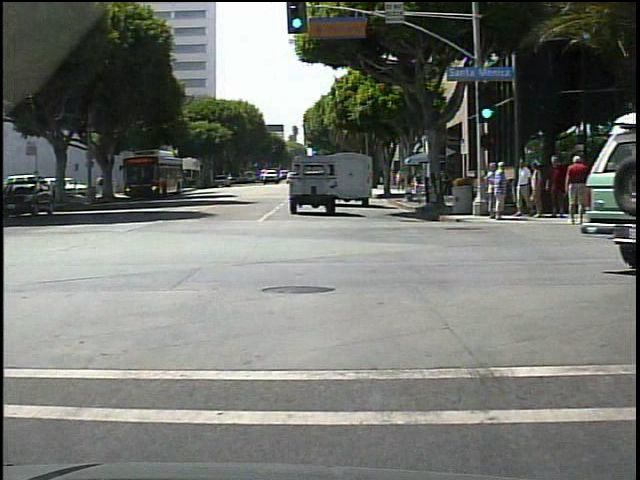person: (565, 156, 588, 230), (542, 151, 567, 219), (516, 159, 538, 218), (605, 163, 625, 226), (591, 165, 611, 224), (528, 162, 545, 220), (493, 160, 508, 222), (486, 163, 499, 219), (102, 176, 113, 201), (395, 170, 404, 193), (96, 175, 105, 198)
